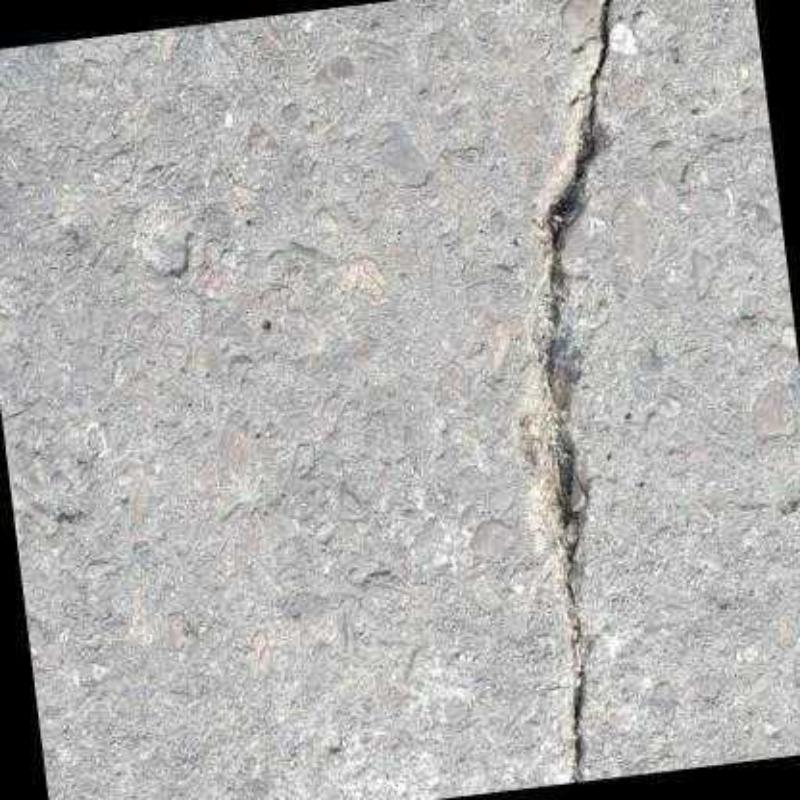pothole: (544, 1, 614, 782)
